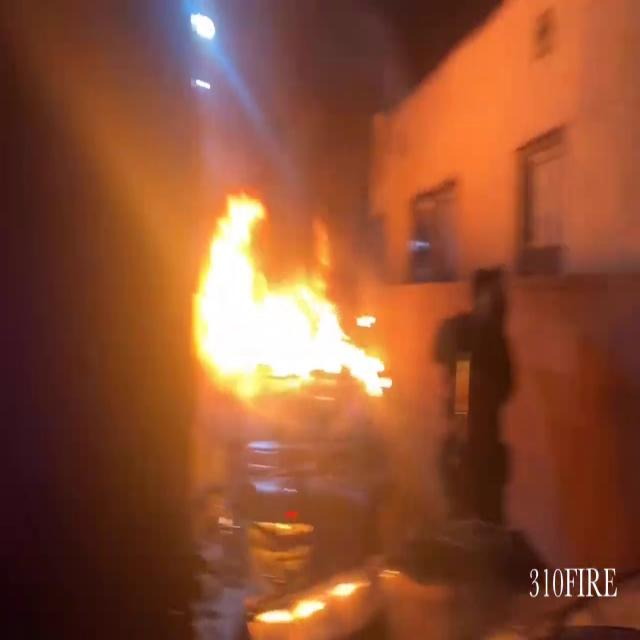Fire: (179, 190, 403, 406)
Smoke: (471, 0, 640, 537)
